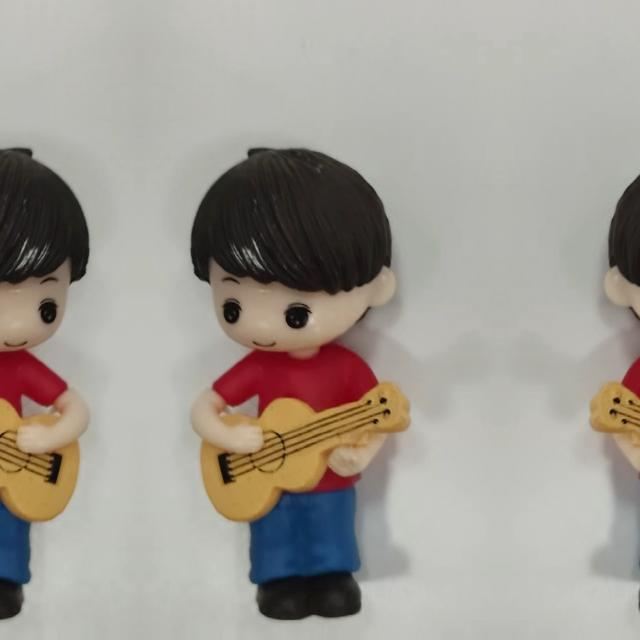man cloth: (207, 341, 385, 497), (0, 341, 73, 497), (615, 341, 640, 497)
man head: (186, 142, 400, 358), (0, 142, 94, 357), (599, 142, 640, 357)
trousers: (244, 488, 370, 624), (0, 488, 36, 624), (629, 488, 640, 624)
